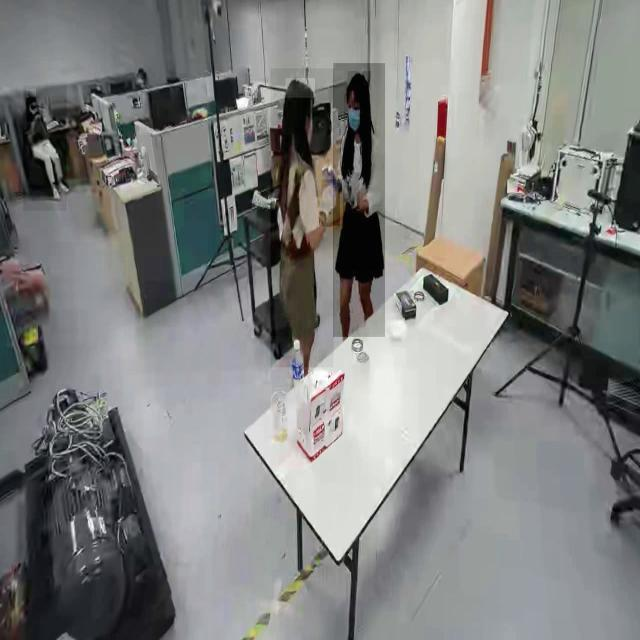face_mask: (344, 93, 366, 135), (26, 98, 36, 122)
hand_glove: (322, 180, 340, 227), (343, 172, 359, 224), (321, 162, 338, 185)
head_nohelmet: (285, 78, 315, 99), (347, 71, 371, 91), (26, 89, 36, 98)
person: (270, 68, 334, 368), (333, 63, 385, 338), (22, 86, 66, 212)
